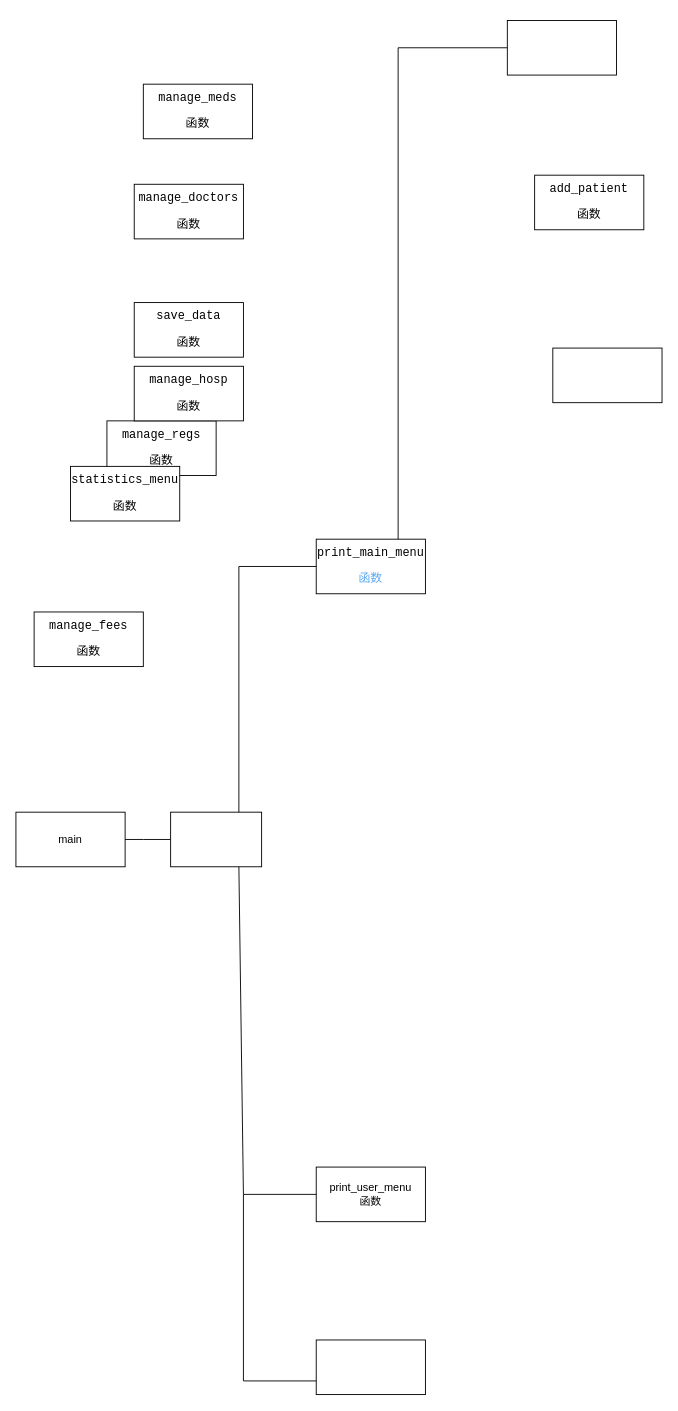
This 678x1411 diagram has some shape labels left out. The centre of each missing label's shape, as x and y in pixels:
"login 函数" goes at point (216, 839).
"manage_patients 函数" goes at point (561, 47).
"退出" goes at point (370, 1367).
